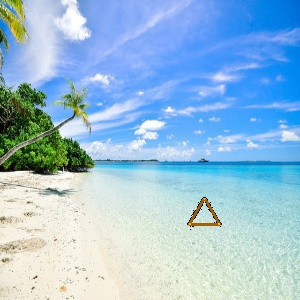triangle: (185, 193, 225, 229)
